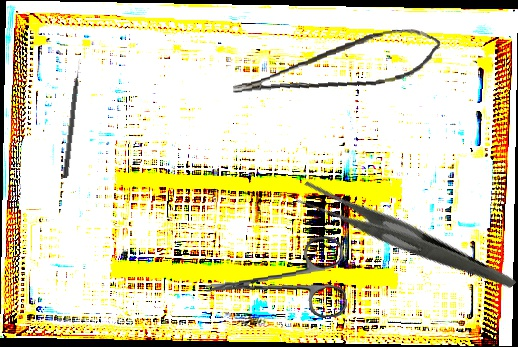Dressing Forceps: (292, 132, 517, 347)
Iris Scissors: (202, 235, 348, 326)
Micro Scissor: (228, 22, 445, 102)
Pusher: (62, 58, 84, 179)
